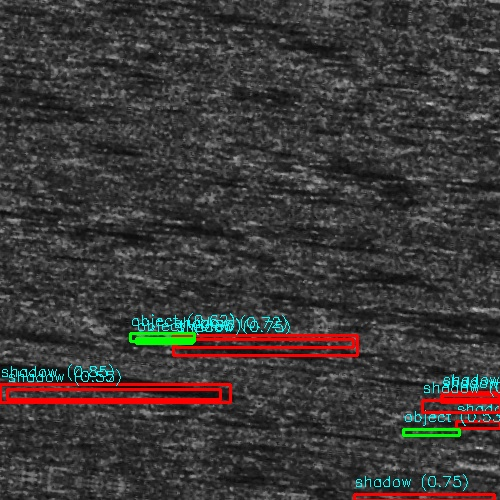rock: (93, 340, 250, 353), (454, 86, 495, 95), (340, 360, 393, 365), (0, 355, 29, 360), (487, 323, 500, 332), (400, 157, 431, 160), (454, 21, 485, 24), (416, 395, 437, 398)
shadow: (172, 340, 435, 353), (0, 355, 117, 360), (367, 360, 475, 365), (416, 157, 500, 160), (475, 86, 500, 95), (427, 395, 500, 398), (470, 21, 500, 24)
